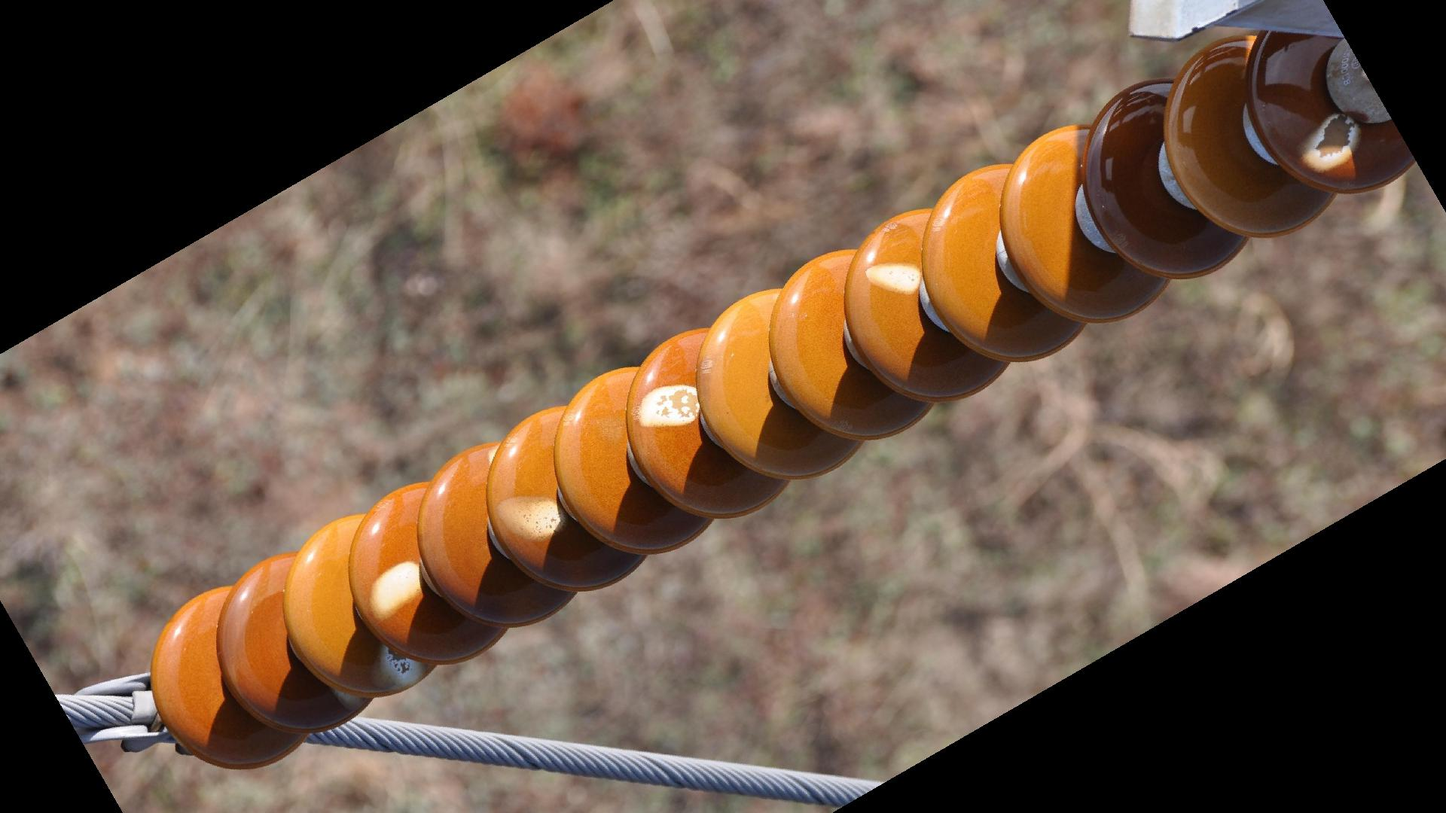insulator: (145, 29, 1420, 774)
insulator_flashover: (1293, 111, 1368, 172), (364, 556, 429, 623), (490, 490, 570, 544), (631, 381, 707, 432), (861, 258, 926, 299), (374, 645, 430, 689)
